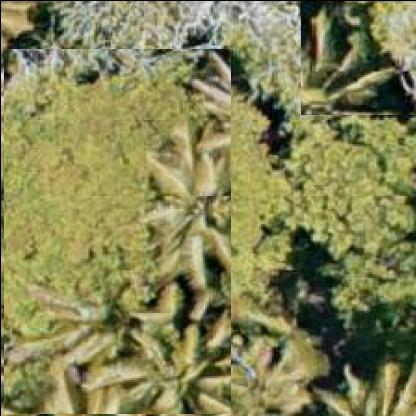coconut tree: (2, 48, 230, 414), (298, 1, 415, 115)
